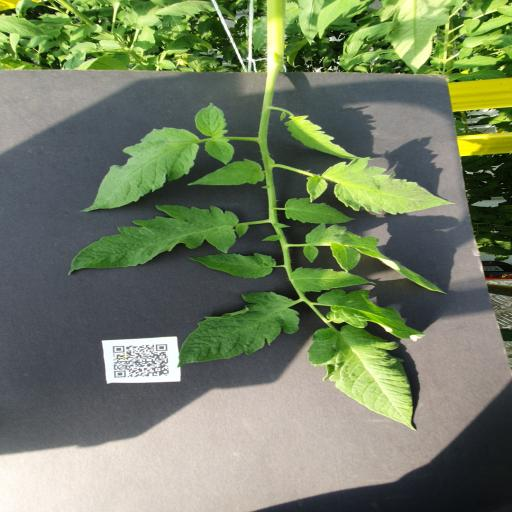Healthy: (80, 103, 234, 212), (67, 204, 240, 276), (307, 324, 417, 432), (302, 224, 452, 295), (176, 291, 300, 368), (303, 156, 457, 215), (316, 288, 427, 342), (380, 0, 455, 74), (283, 116, 361, 160), (186, 252, 278, 281), (289, 266, 377, 293), (186, 157, 265, 186), (316, 0, 370, 39), (284, 198, 357, 224), (0, 13, 52, 38), (296, 0, 324, 46), (452, 54, 504, 70), (132, 26, 157, 53), (69, 42, 97, 52), (99, 39, 122, 51), (158, 60, 177, 69)
